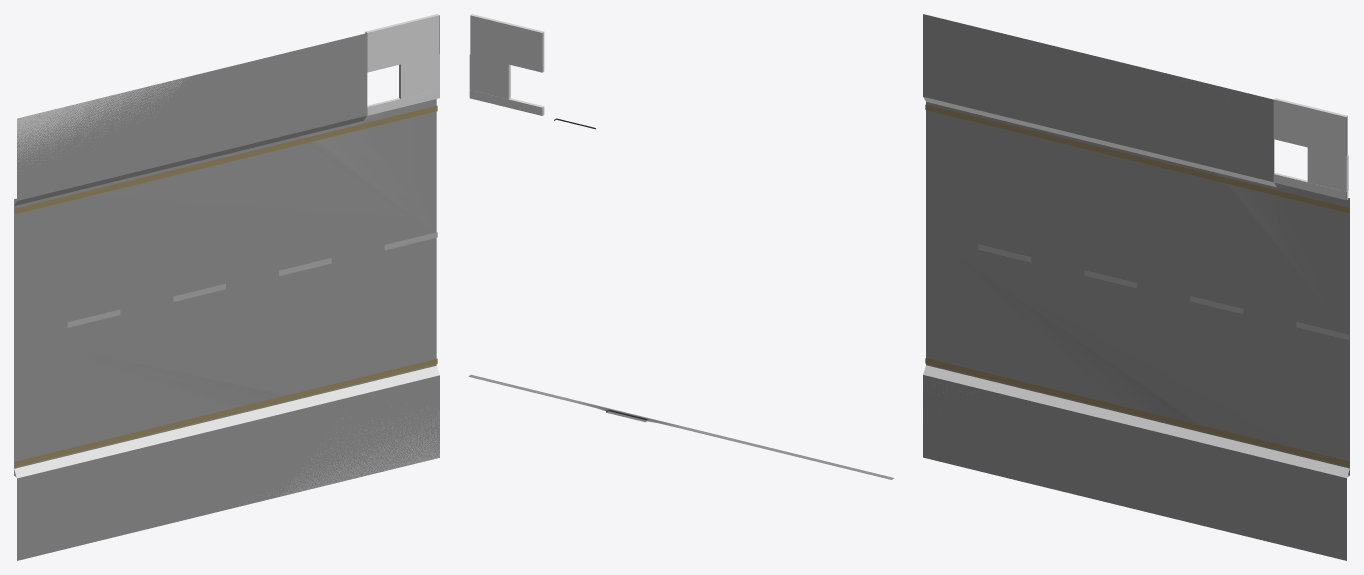
File: str_ext_road_16x16m_a.glb
3 views of the same model, side by side, from view 1: azimuth 30°, elevation 25°; view 2: azimuth 150°, elevation 25°; view 3: azimuth 330°, elevation 25° (orthographic).
Visible parts, largest first — view 1: g_str_ext_road_16x16m_a, c_convex_01, g_str_ext_road_16x16m_a_marking, c_convex_02, c_box_04, c_box_03, c_box_02; view 2: c_box_04, g_str_ext_road_16x16m_a, c_box_03, c_box_02; view 3: g_str_ext_road_16x16m_a, g_str_ext_road_16x16m_a_marking, c_convex_01, c_box_04, c_convex_02, c_box_03, c_box_02.
Part boxes in pixels (x1,y1,x2,y2): g_str_ext_road_16x16m_a: (14, 15, 439, 560); c_convex_01: (14, 365, 439, 503); g_str_ext_road_16x16m_a_marking: (14, 105, 437, 466); c_convex_02: (14, 77, 366, 205); c_box_04: (365, 14, 439, 72); c_box_03: (399, 54, 439, 98); c_box_02: (367, 90, 439, 115); c_box_04: (470, 14, 544, 72); g_str_ext_road_16x16m_a: (468, 118, 893, 479); c_box_03: (469, 54, 510, 99); c_box_02: (469, 90, 544, 115); g_str_ext_road_16x16m_a: (923, 14, 1349, 560); g_str_ext_road_16x16m_a_marking: (925, 104, 1349, 466); c_convex_01: (923, 365, 1349, 477); c_box_04: (1273, 98, 1347, 156); c_convex_02: (923, 14, 1276, 187); c_box_03: (1307, 147, 1348, 191); c_box_02: (1273, 173, 1348, 200).
Bounding box in the file's own units: 16 × 16.01 × 0.2708.
